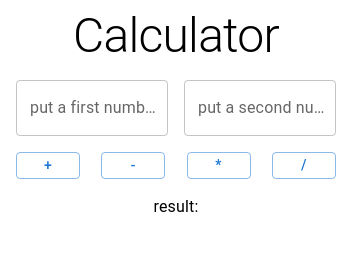
Test: shows error when trying to divide by zero
The width and height of the screenshot is (353, 269).
Type "5" into the field labelled "put a first number" at [92, 108], box [16,80,168,136]
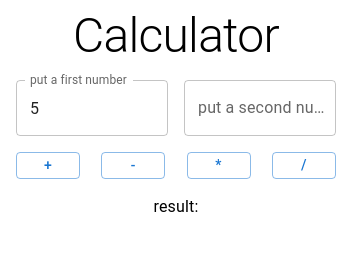
Type "0" into the field labelled "put a second number" at [260, 108], box [184,80,336,136]
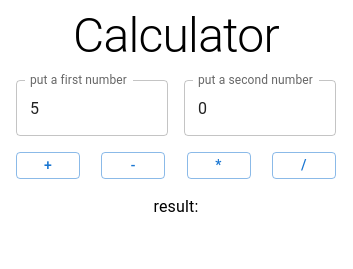
Click the button "/" at [304, 165], box [272,152,336,178]
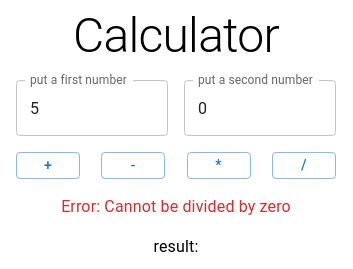
Check: the text "Error: Cannot be divided by zero" is shown, box [61,196,291,216]
